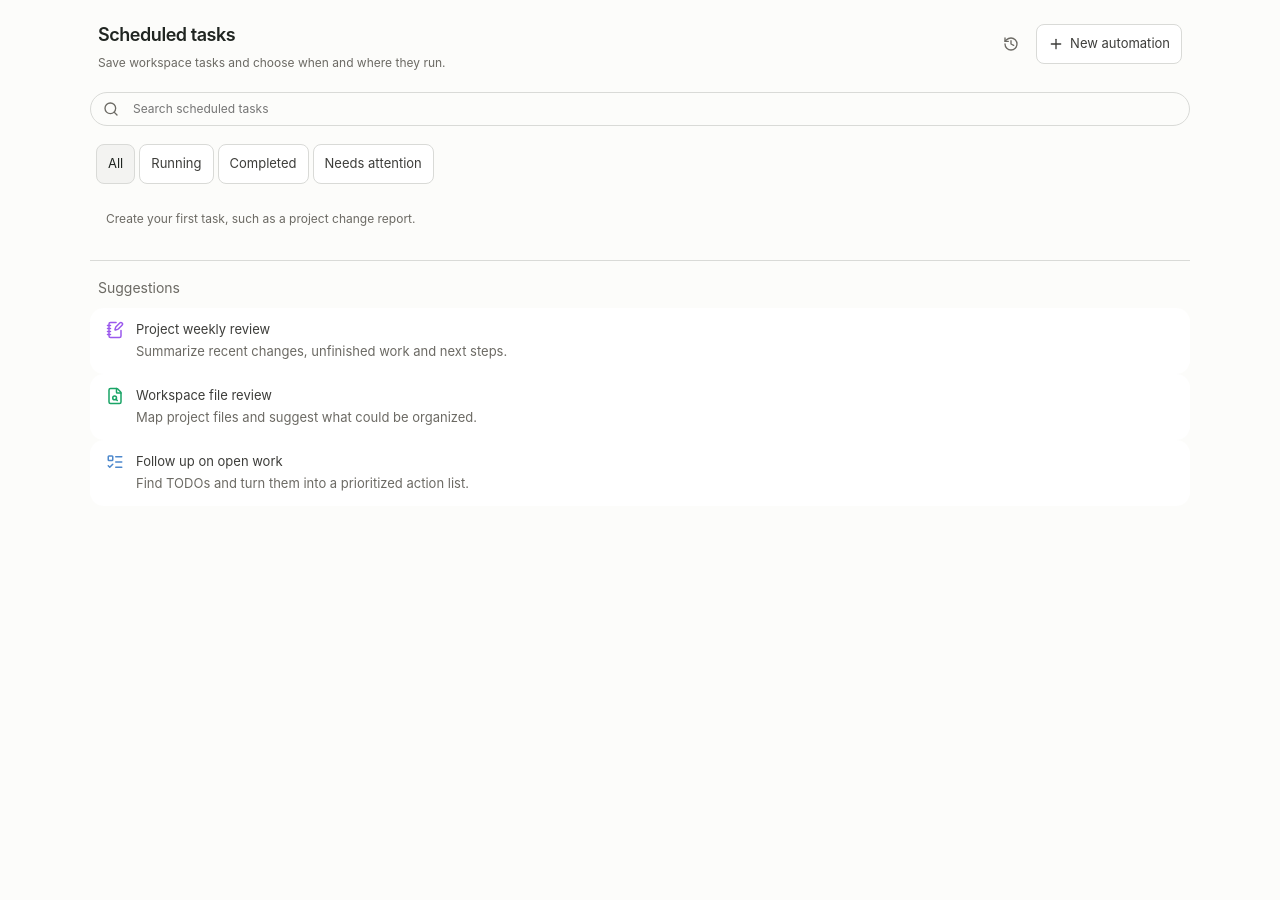
Test: keeps an edited draft and exposes native validation failures
Click the button "New automation" at (1109,44), box left=1036, top=24, right=1182, bottom=64
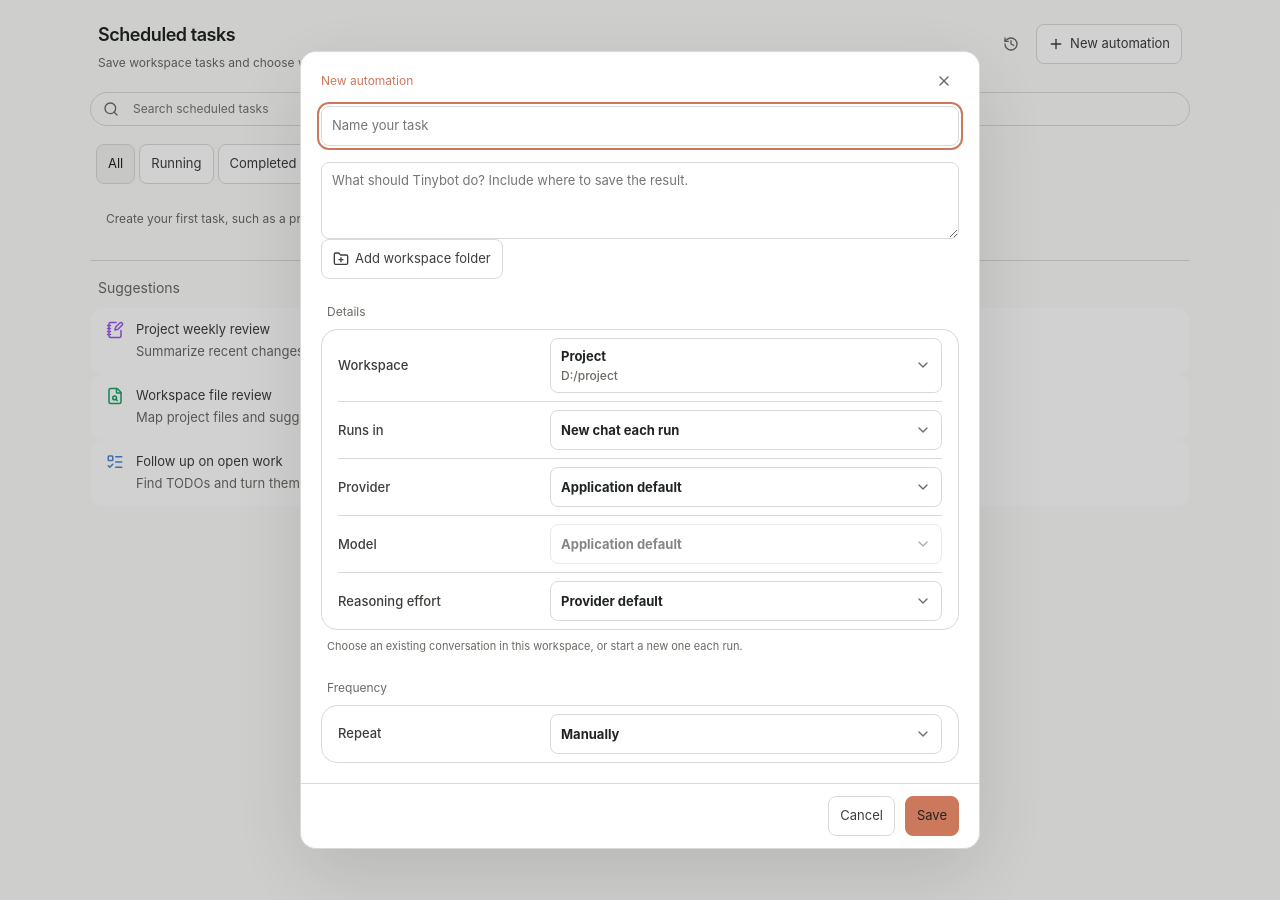
Type "Report" into the field labelled "Name" at (640,126), box left=321, top=106, right=959, bottom=146
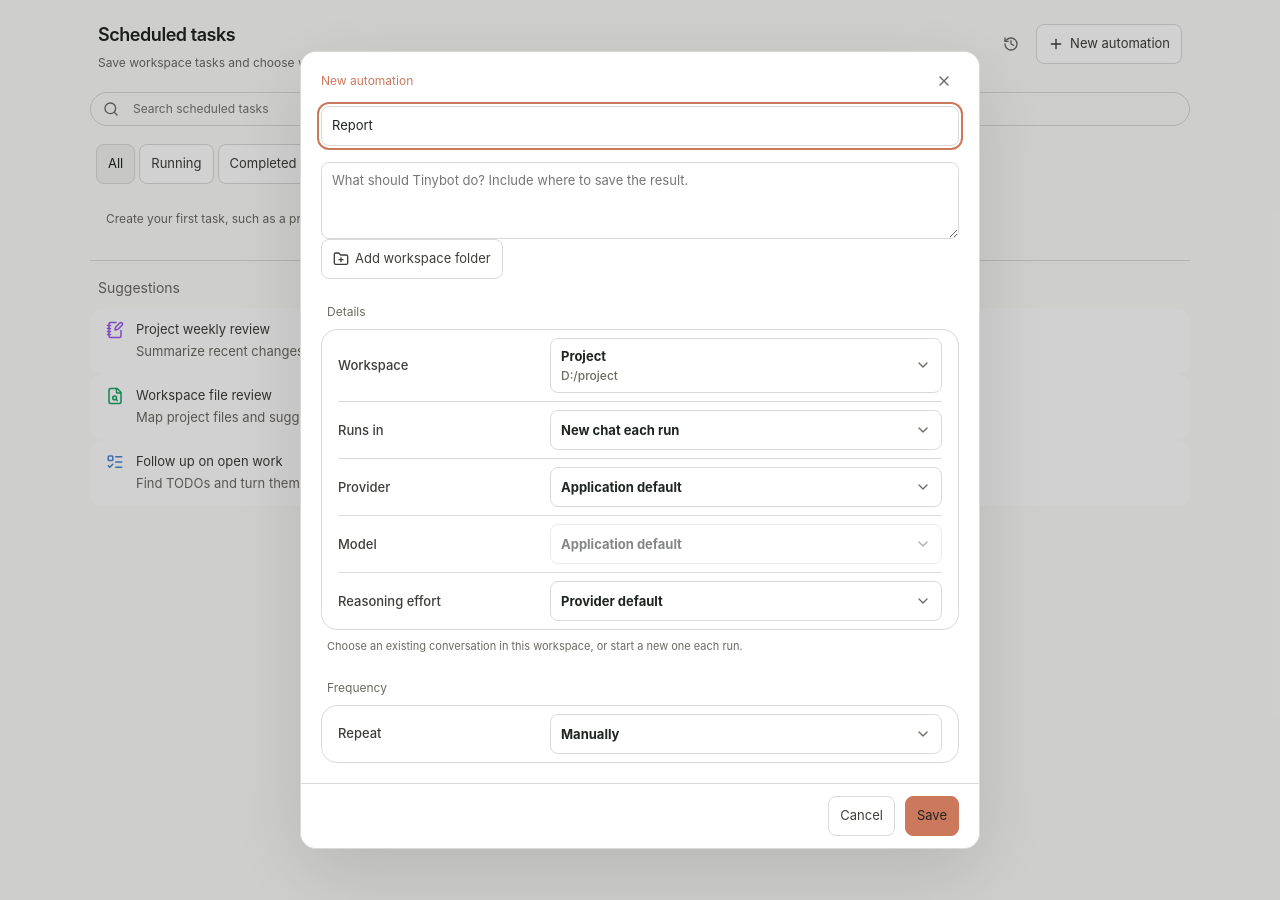
Click the button "Project D:/project" at (584,356), box left=550, top=338, right=942, bottom=393
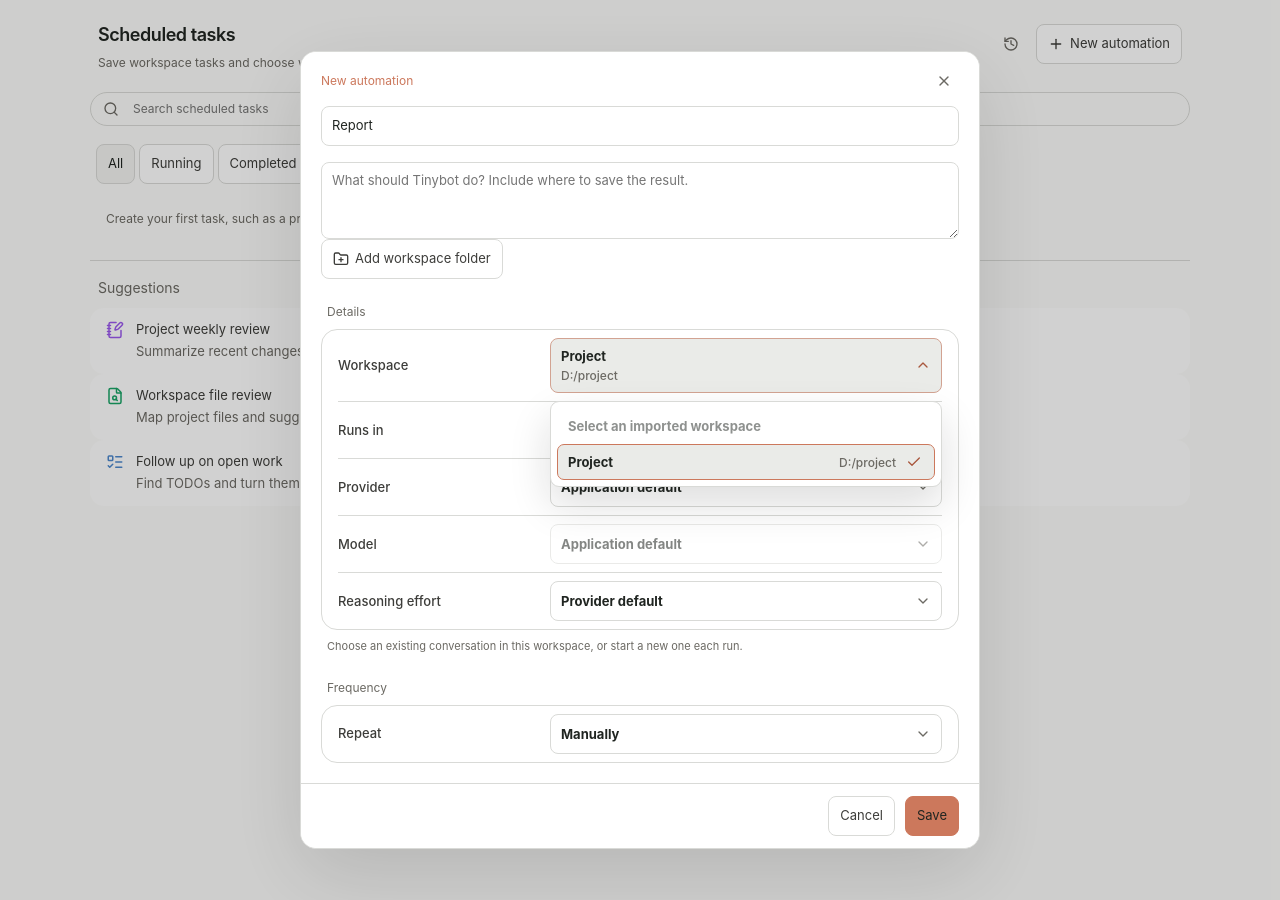
Click the menu item "Project D:/project" at (591,462), box left=557, top=444, right=935, bottom=480
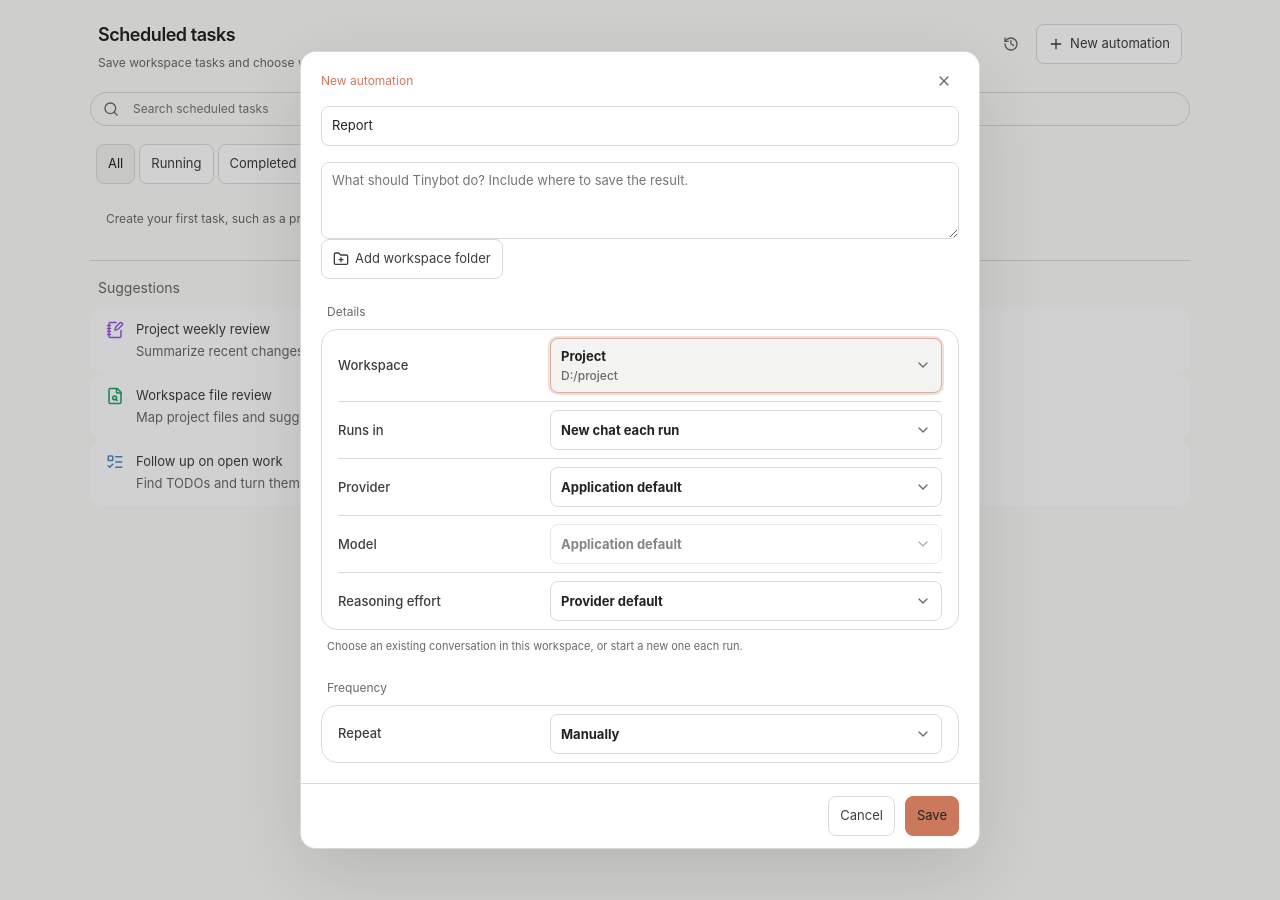
Type "Create report" into the text box named "Instructions and output location" at (640,200), box left=321, top=162, right=959, bottom=239
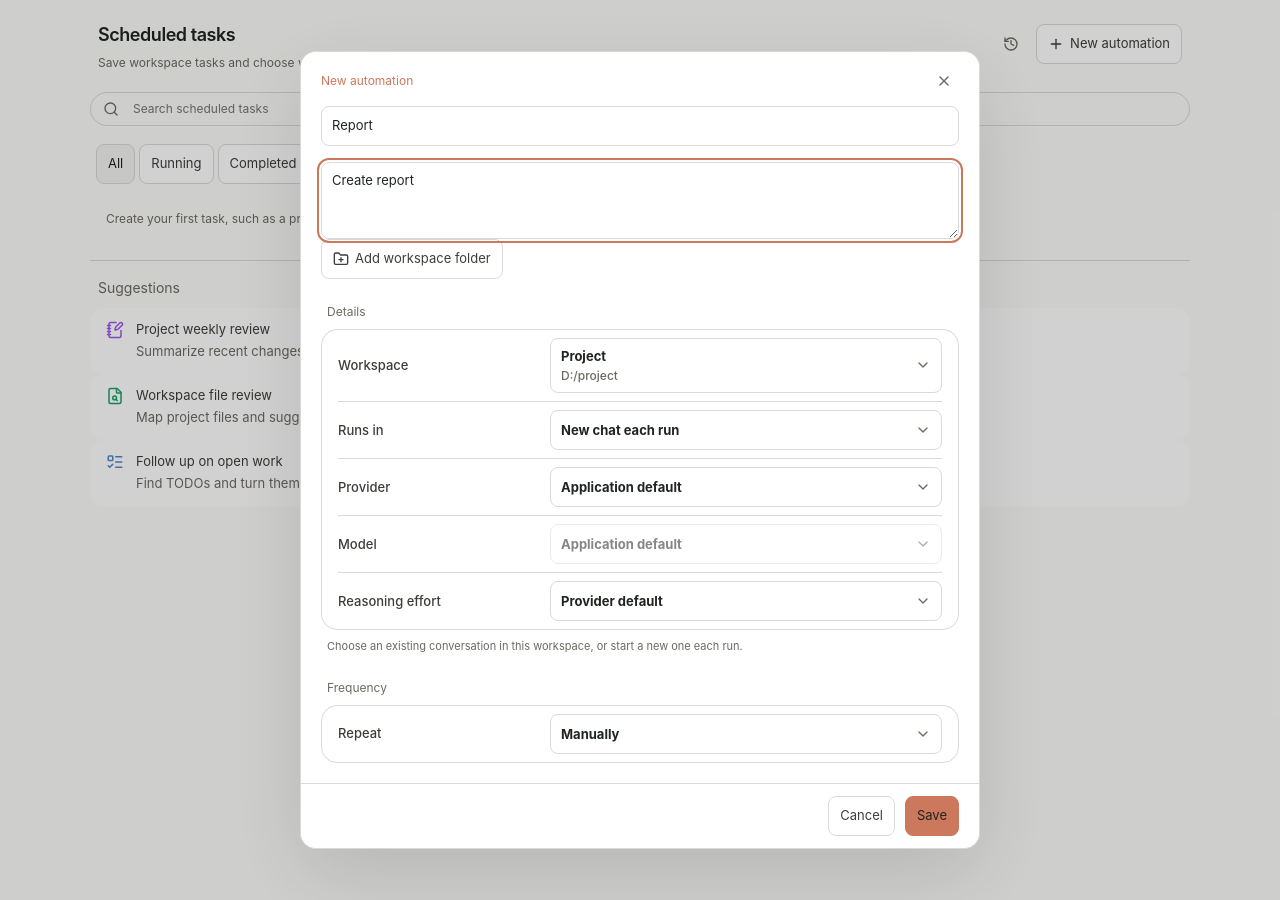
Click the button "Save" at (932,816), box left=905, top=796, right=959, bottom=836
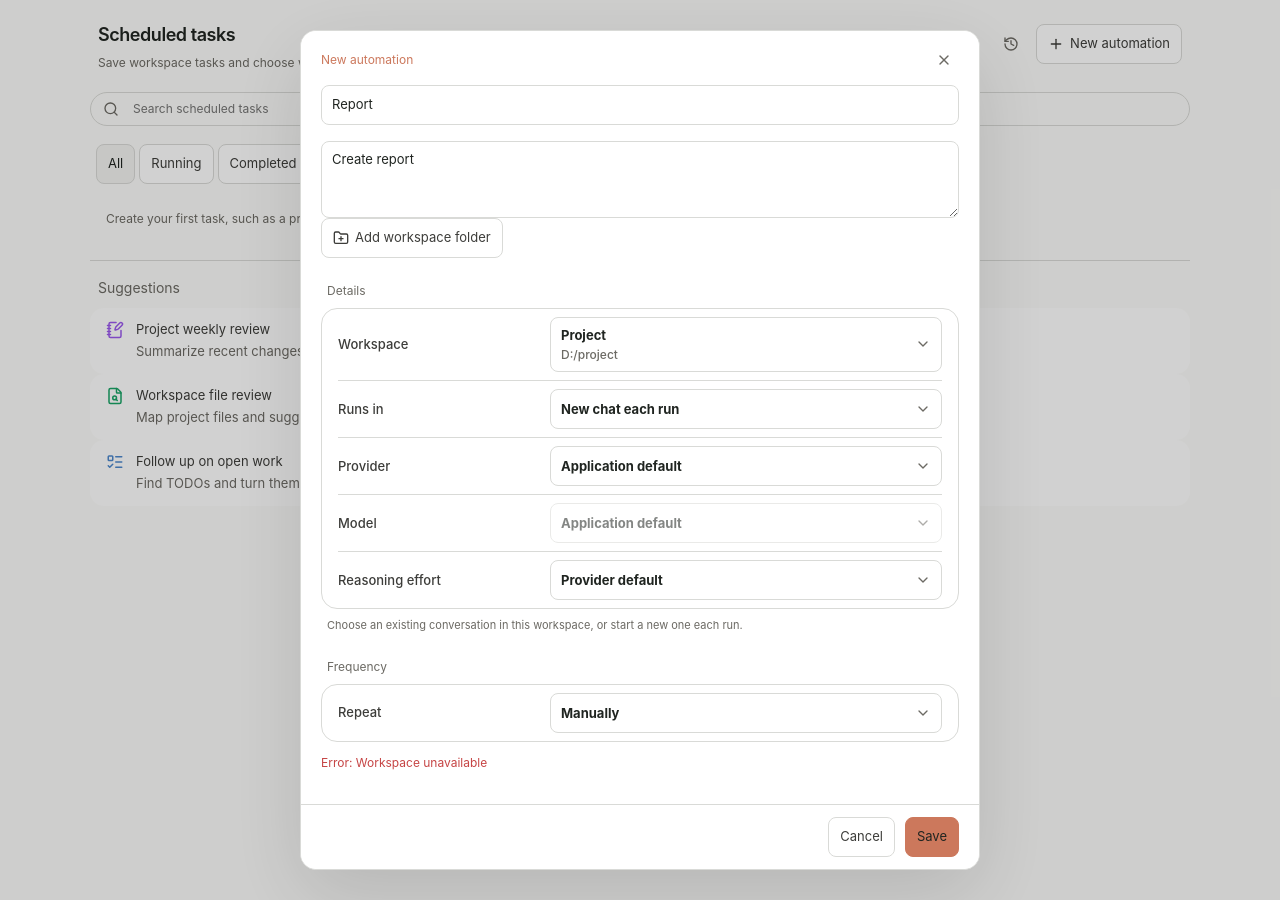
Check: the message shows "Workspace unavailable", box left=321, top=755, right=487, bottom=770
